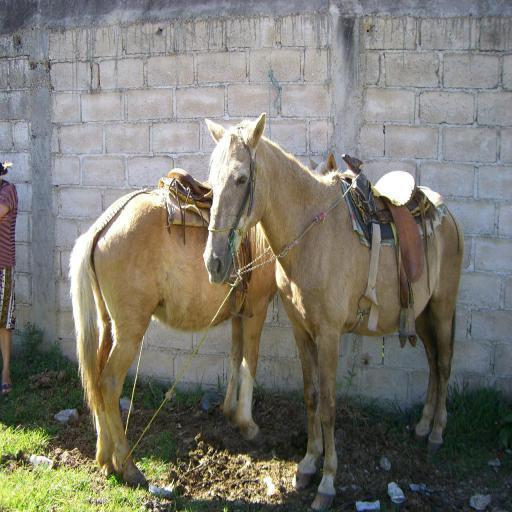horse: (199, 108, 466, 512), (66, 149, 340, 487)
